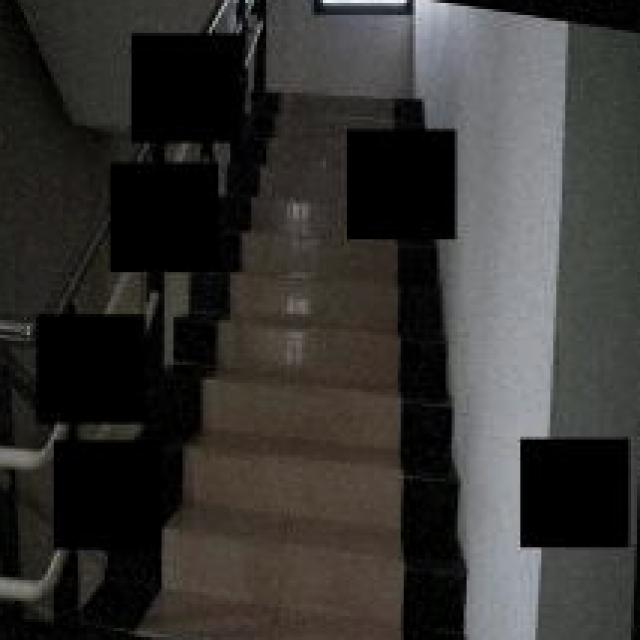upstair: (237, 264, 459, 623)
